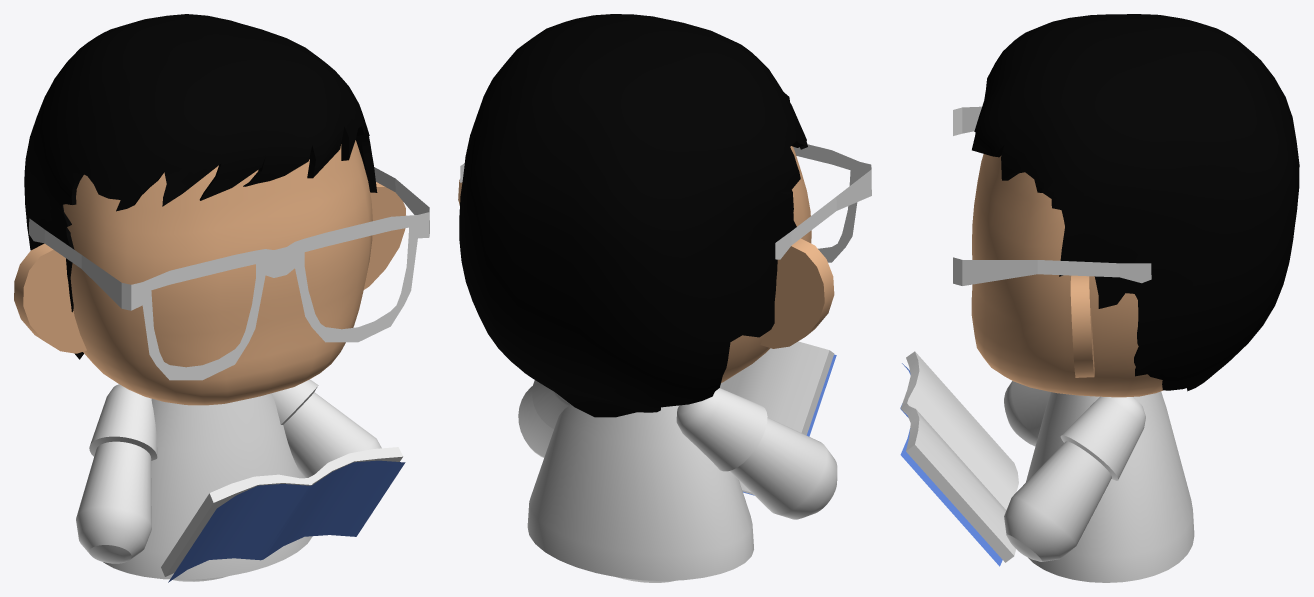
The model's file is character.fbx.
3 views of the same model, side by side, from view 1: azimuth 30°, elevation 25°; view 2: azimuth 150°, elevation 25°; view 3: azimuth 270°, elevation 25° (orthographic). The views are drawn at different scales.
Parts seen in each view (by area): view 1: Cylinder.002; view 2: Cylinder.002; view 3: Cylinder.002.
Boxes of the visible parts, left/top/right/bottom form: Cylinder.002: left=14, top=14, right=429, bottom=582; Cylinder.002: left=458, top=14, right=871, bottom=582; Cylinder.002: left=900, top=14, right=1299, bottom=582.
Size of the model in its own units: 335 by 454 by 309.
